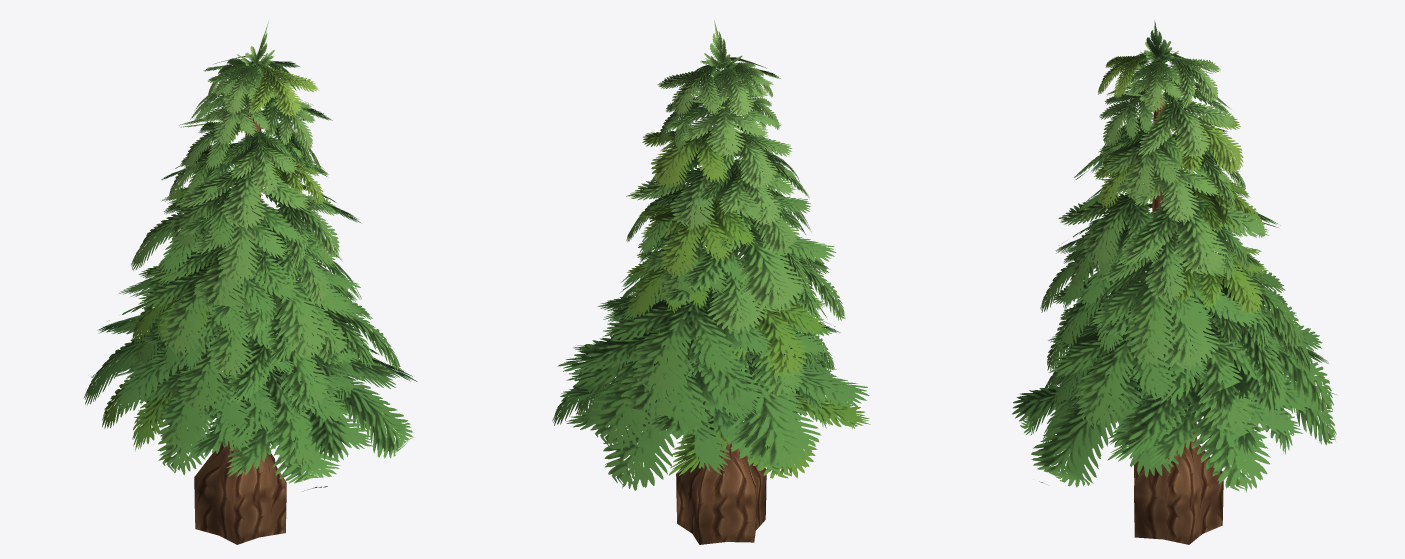
Rendered from spruce_mid.gltf.
3 renders of one model, left to right at view 1: azimuth 30°, elevation 25°; view 2: azimuth 150°, elevation 25°; view 3: azimuth 270°, elevation 25°, orthographic. The views are drawn at different scales.
Parts seen in each view (by area): view 1: spruce_mid_leaves_LOD0, spruce_mid_trunk_LOD0; view 2: spruce_mid_leaves_LOD0, spruce_mid_trunk_LOD0; view 3: spruce_mid_leaves_LOD0, spruce_mid_trunk_LOD0.
Boxes of the visible parts, <box> form: spruce_mid_leaves_LOD0: <box>83,21,417,491</box>; spruce_mid_trunk_LOD0: <box>194,108,286,544</box>; spruce_mid_leaves_LOD0: <box>552,20,870,490</box>; spruce_mid_trunk_LOD0: <box>676,123,766,544</box>; spruce_mid_leaves_LOD0: <box>1012,20,1336,492</box>; spruce_mid_trunk_LOD0: <box>1134,95,1223,544</box>.
Size of what is drawn, in the model's own units: 10.19 by 13.2 by 9.96.
Materials: 2 (2 with a texture image).
